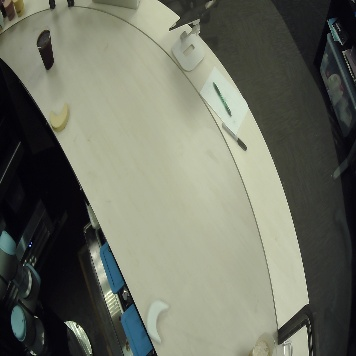full_cup: (36, 25, 55, 69), (246, 331, 279, 356), (3, 1, 15, 21), (14, 1, 26, 16)
puck: (145, 298, 170, 343), (51, 104, 70, 132)
